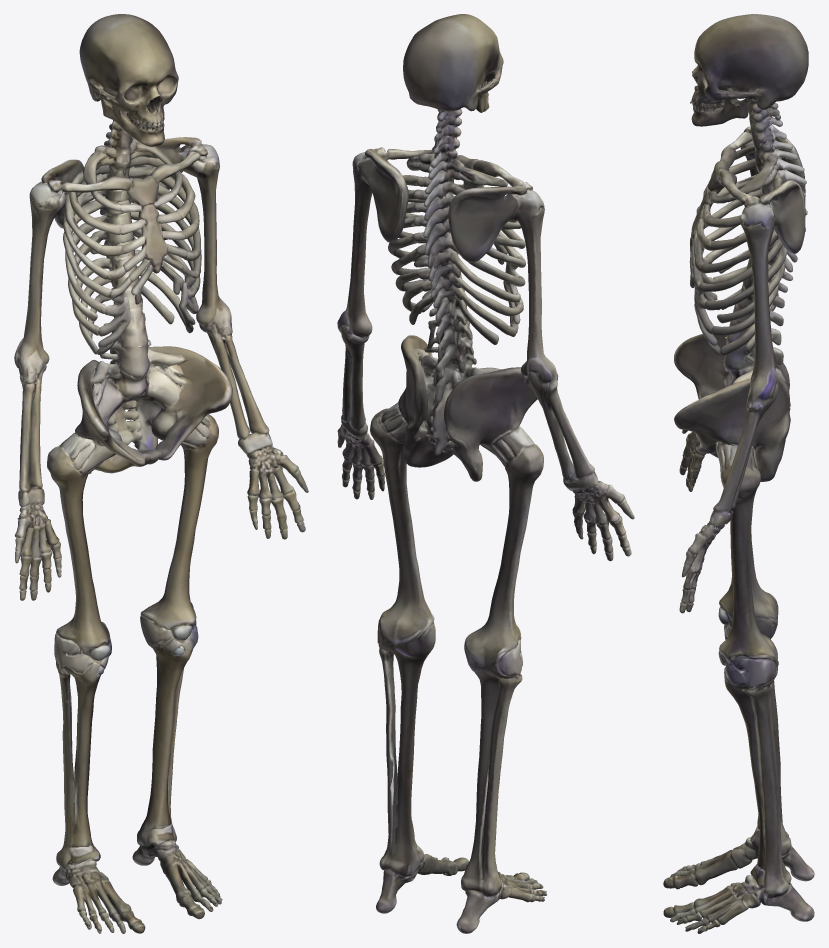
The model's file is human-skeleton.glb.
3 renders of one model, left to right at view 1: azimuth 30°, elevation 25°; view 2: azimuth 150°, elevation 25°; view 3: azimuth 270°, elevation 25°, orthographic.
Visible parts, largest first — view 1: tripo_node_bafad036-30c9-4879-bff7-1a7236866f7a; view 2: tripo_node_bafad036-30c9-4879-bff7-1a7236866f7a; view 3: tripo_node_bafad036-30c9-4879-bff7-1a7236866f7a.
Part boxes in pixels (x1=…): tripo_node_bafad036-30c9-4879-bff7-1a7236866f7a: x1=14, y1=14, x2=308, y2=933; tripo_node_bafad036-30c9-4879-bff7-1a7236866f7a: x1=337, y1=14, x2=634, y2=933; tripo_node_bafad036-30c9-4879-bff7-1a7236866f7a: x1=663, y1=14, x2=814, y2=933.
Size of the model in its own units: 0.3431 by 0.9795 by 0.1517.
1 material, 1 textured.
